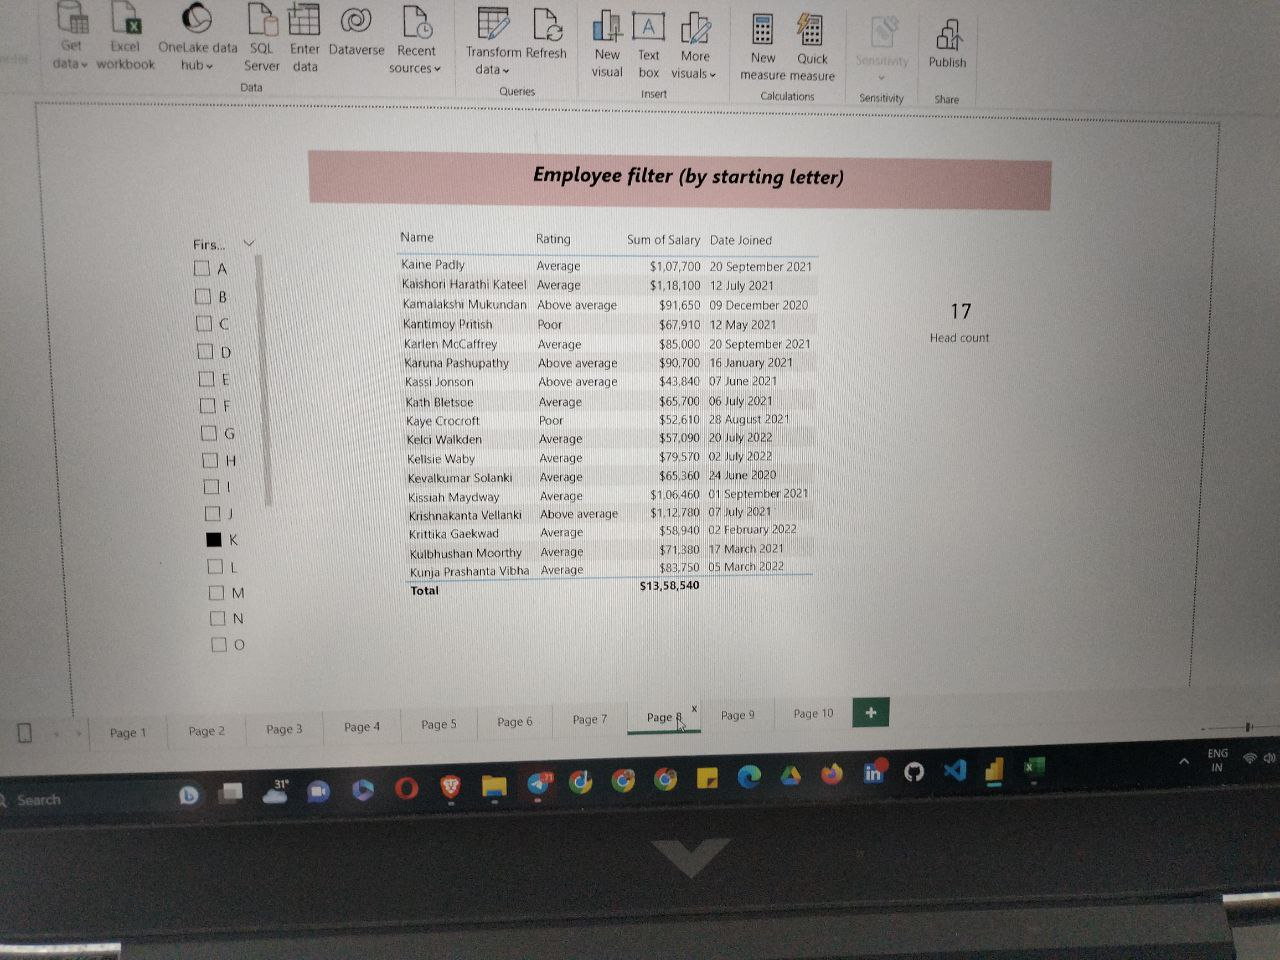

The page's visual inventory and layout, read from the dashboard file:
{"tool":"powerbi","page":{"name":"Page 8","canvas":[1280,720],"ordinal":7},"visuals":[{"type":"textbox","box":[274.4,44.4,811.1,54.4],"z":0},{"type":"slicer","fields":{"Values":["Data.First Letter"]},"box":[138.9,128.9,90,461.1],"z":1},{"type":"tableEx","fields":{"Values":["Data.Name","Data.Rating","Sum(Data.Salary)","Data.Date Joined"]},"box":[356.7,116.7,513.3,473.3],"z":2},{"type":"card","fields":{"Values":["Data.Head count"]},"box":[912.2,156.7,146.7,123.3],"z":3}]}

Visuals, with their boxes on the page's 1280x720 design canvas (x1, y1, x2, y2). These are canvas units, not pixel positions in the 1280x960 screenshot, which may show the page scaled, cropped or inside an application window:
textbox: box=[274, 44, 1086, 99]
slicer - Data.First Letter: box=[139, 129, 229, 590]
tableEx - Data.Name x Data.Rating: box=[357, 117, 870, 590]
card - Data.Head count: box=[912, 157, 1059, 280]
